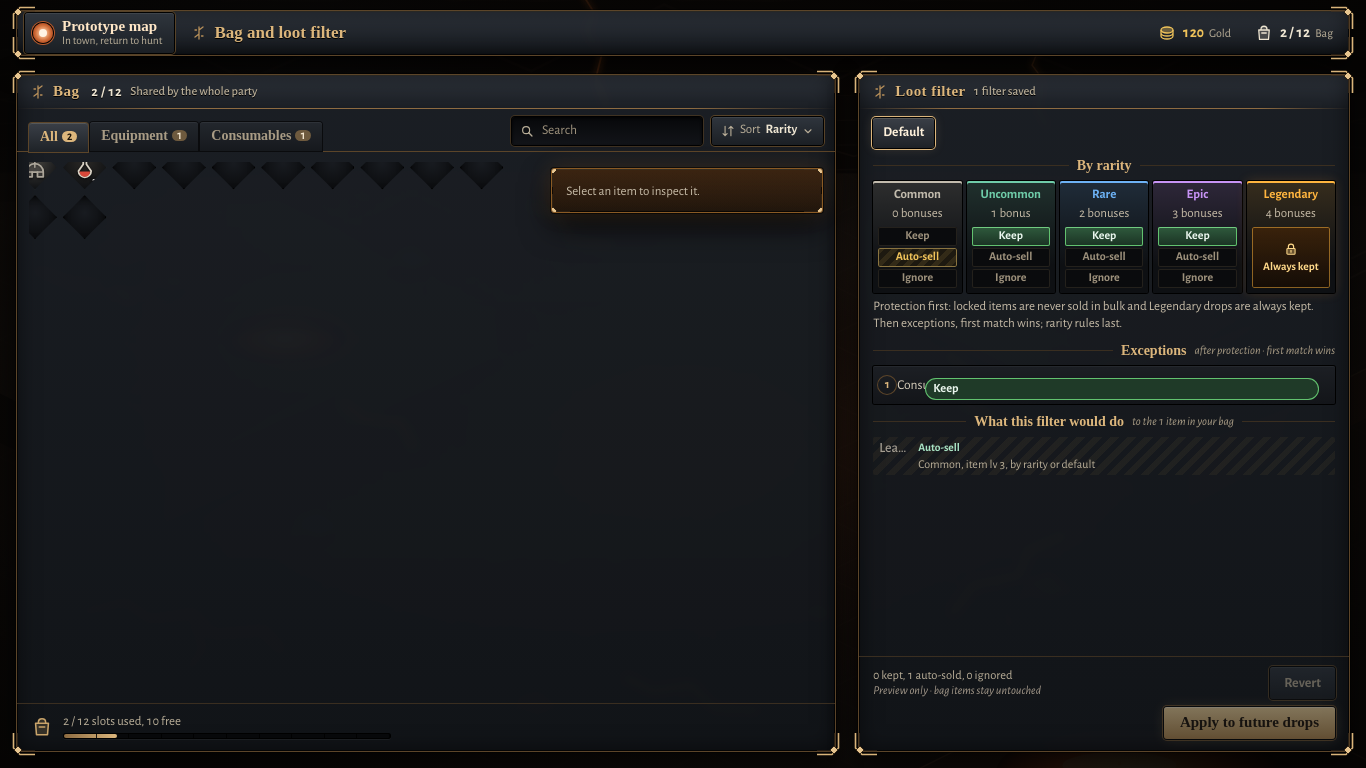
Test case: B-12: comparison against a real character and slot › an empty target slot is said so, and every line is a gain
Click the button named ",": (35, 168) [13,146,57,189]
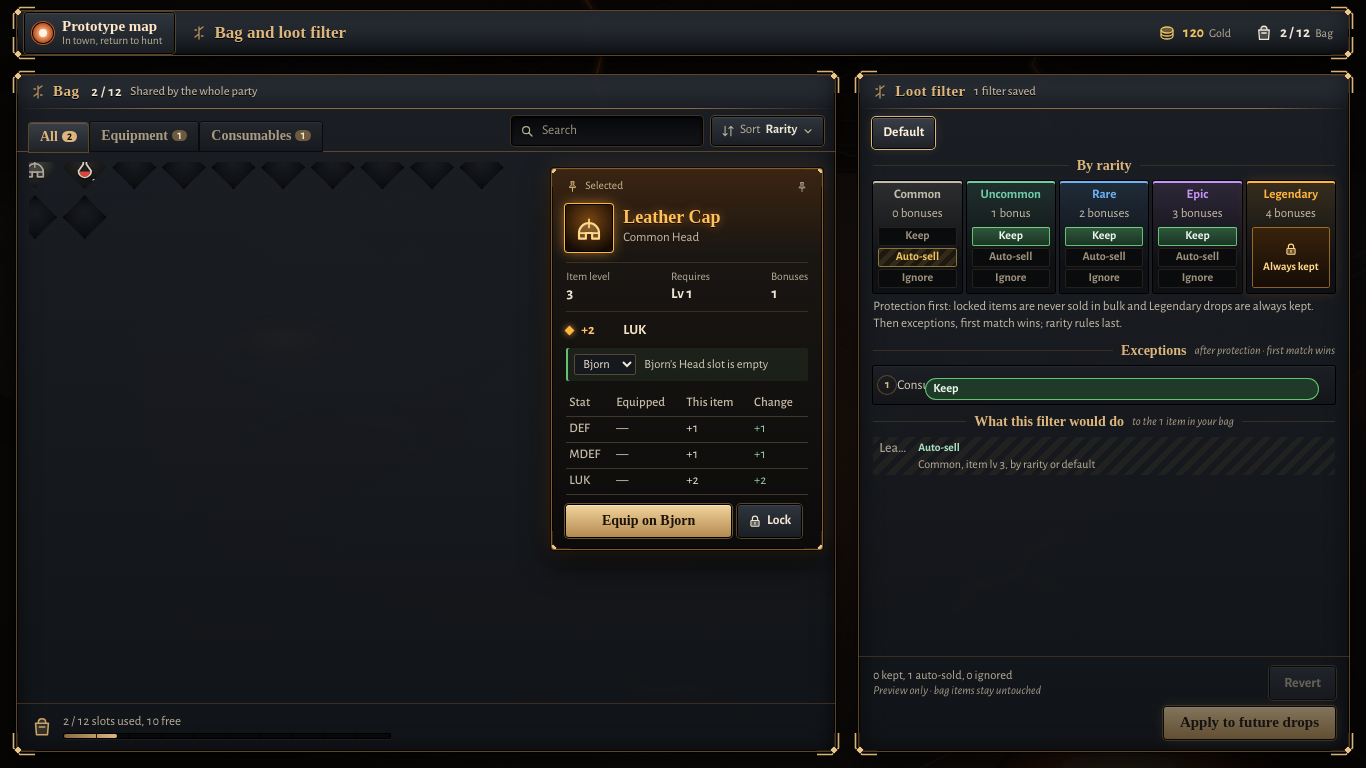
Result: the text "+2" is shown at [581,323,595,337]
